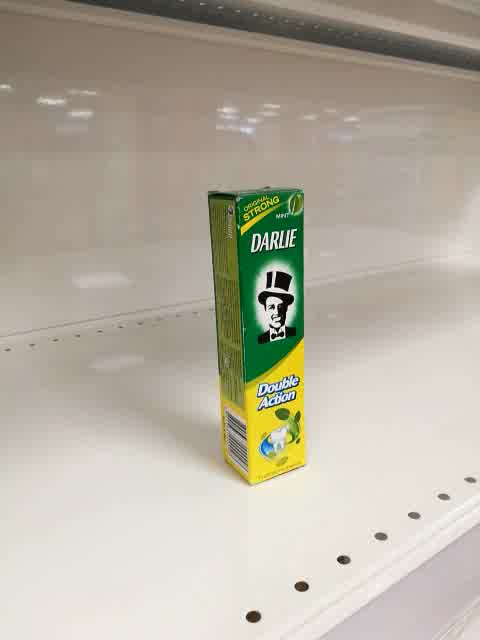toothpaste: (205, 188, 307, 487)
